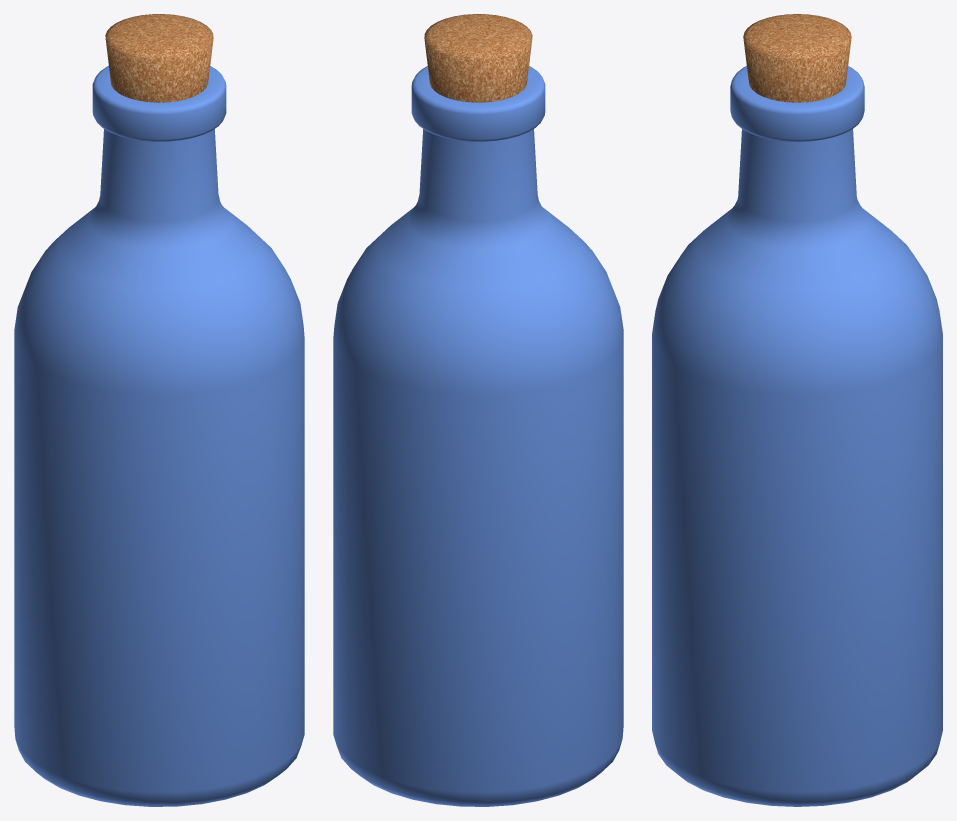
3 renders of one model, left to right at view 1: azimuth 30°, elevation 25°; view 2: azimuth 150°, elevation 25°; view 3: azimuth 270°, elevation 25°, orthographic.
Visible parts, largest first — view 1: Bottle, Cork; view 2: Bottle, Cork; view 3: Bottle, Cork.
Boxes of the visible parts, box(x1,y1,x2,y2) form: Bottle: box(14, 66, 304, 806); Cork: box(105, 14, 213, 102); Bottle: box(333, 66, 623, 806); Cork: box(424, 14, 532, 102); Bottle: box(652, 66, 942, 806); Cork: box(743, 14, 851, 102).
Bounding box in the file's own units: 0.0871 × 0.2392 × 0.0871.
2 materials, 2 textured.
